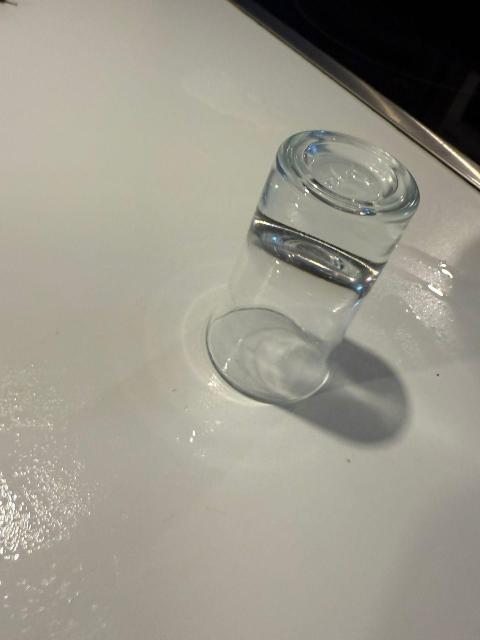Cam: (208, 125, 425, 429)
